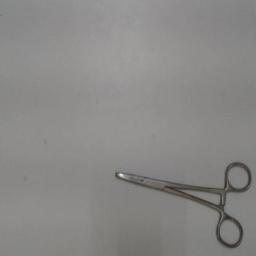Mayo Needle Holder: (108, 156, 254, 252)
